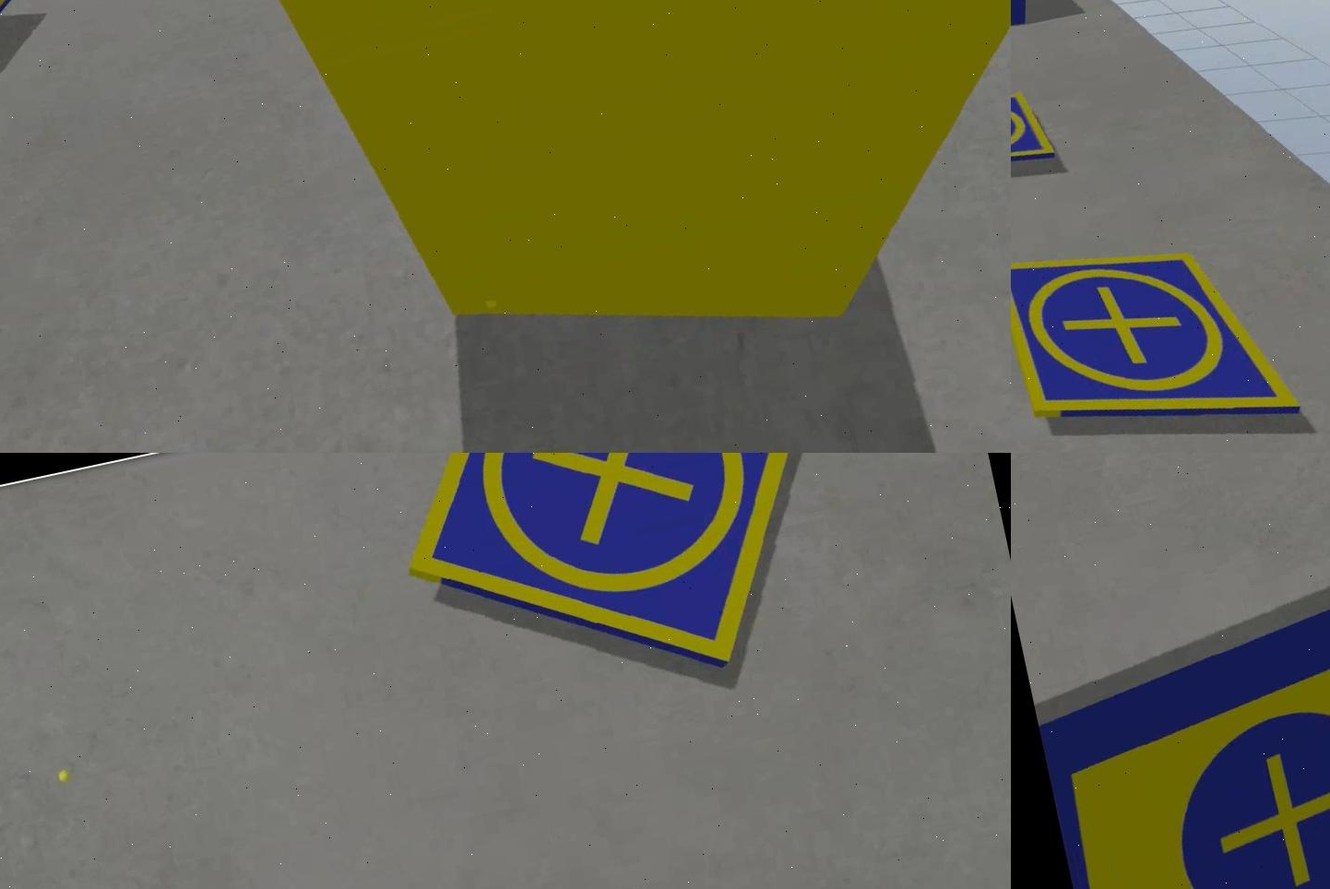large_base: (1018, 531, 1328, 889)
small_base: (368, 454, 856, 730), (1009, 209, 1296, 454), (0, 1, 62, 166), (1009, 77, 1052, 187)
